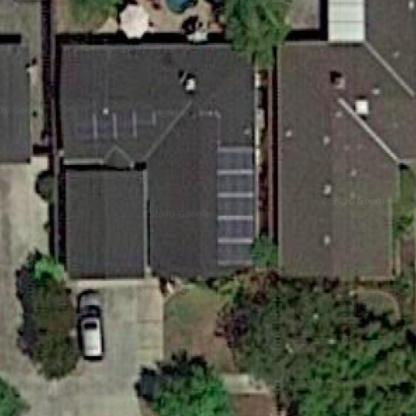car: (75, 281, 115, 368)
solar_panel: (206, 134, 267, 270), (78, 102, 173, 143)
